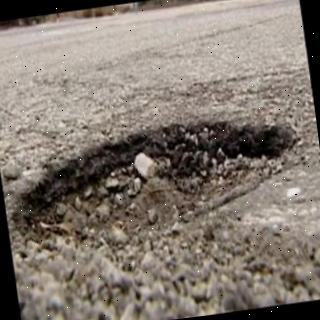pothole: (19, 122, 301, 246)
